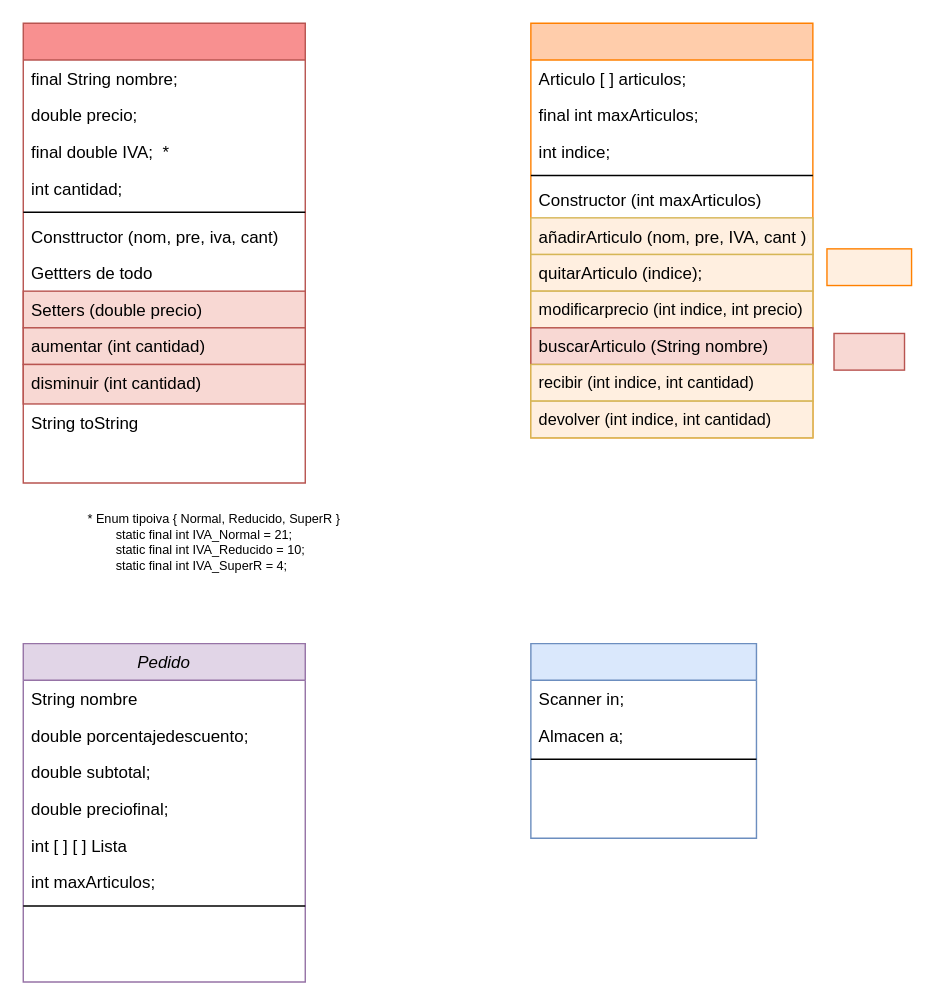
Image size: 935x1005. Some labels were removed from this diagram. The box of each missing label's shape, as (x1, y1, x2, y2) in pixels:
Almacen: (529, 22, 813, 438)
Articulo: (22, 22, 305, 483)
Boolean: (826, 247, 912, 286)
TienDAM: (529, 642, 756, 838)
void: (833, 332, 905, 370)
